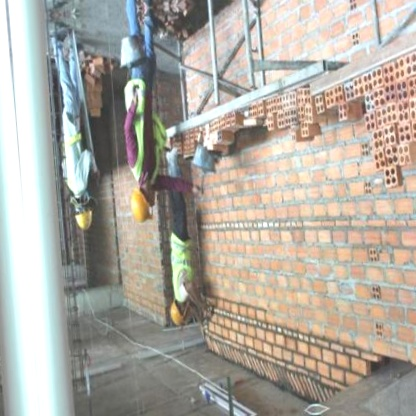vest: (117, 70, 173, 188), (164, 229, 199, 304)
yellow: (125, 182, 157, 226), (165, 300, 187, 332), (73, 207, 95, 235)
